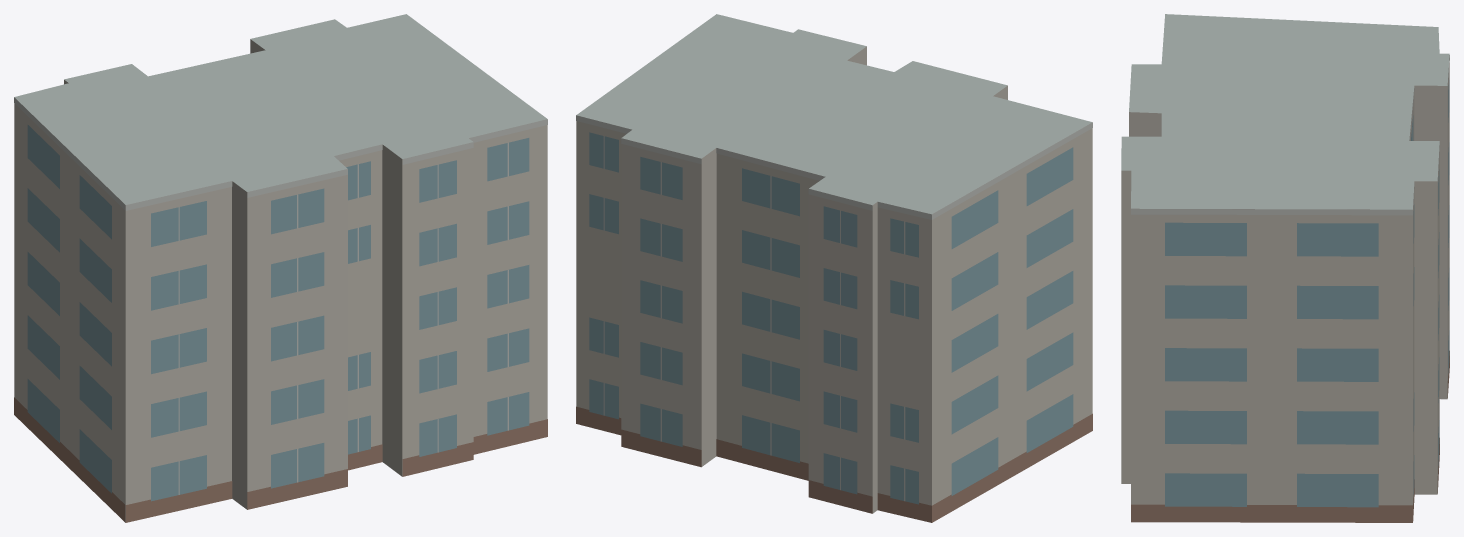
File: survey-upis-32777549.glb
3 renders of one model, left to right at view 1: azimuth 30°, elevation 25°; view 2: azimuth 150°, elevation 25°; view 3: azimuth 270°, elevation 25°, orthographic. The views are drawn at different scales.
Visible parts, largest first — view 1: survey-upis-32777549.tmp; view 2: survey-upis-32777549.tmp; view 3: survey-upis-32777549.tmp.
Boxes of the visible parts, bbox=[...] form: survey-upis-32777549.tmp: bbox=[14, 14, 547, 522]; survey-upis-32777549.tmp: bbox=[576, 14, 1092, 522]; survey-upis-32777549.tmp: bbox=[1121, 14, 1449, 522].
Bounding box in the file's own units: 17.81 × 13.3 × 12.65.
